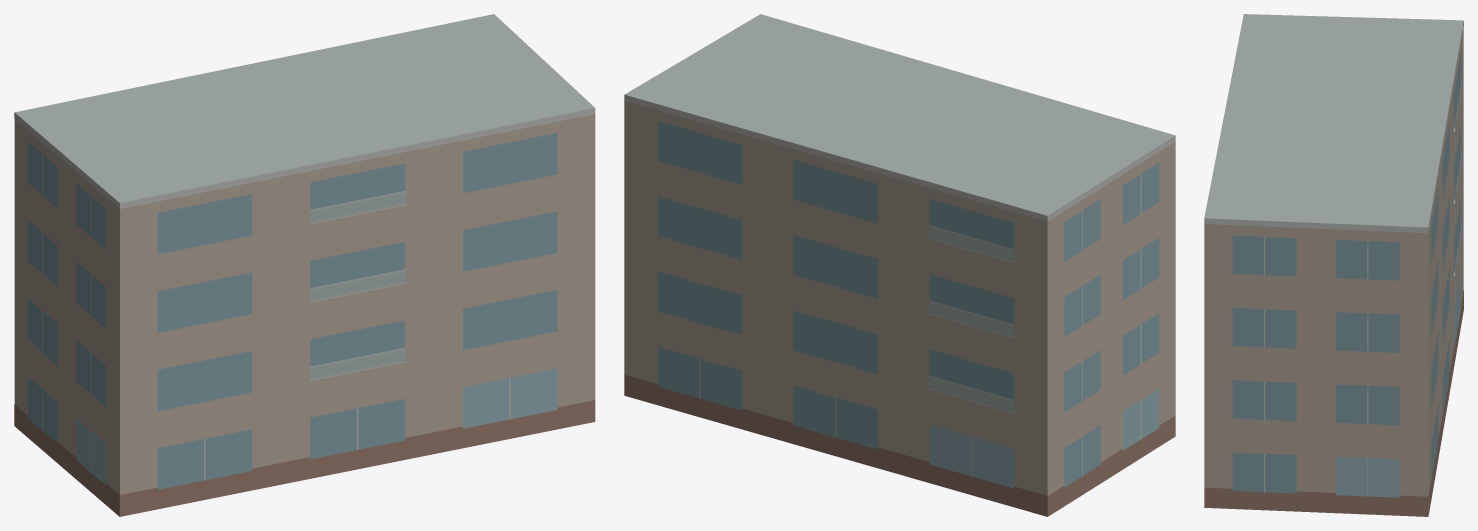
File: survey-upis-32669130.glb
The picture shows the model from 3 angles, left to right: view 1: azimuth 30°, elevation 25°; view 2: azimuth 150°, elevation 25°; view 3: azimuth 270°, elevation 25°; orthographic projection. The views are drawn at different scales.
Visible parts, largest first — view 1: survey-upis-32669130.tmp; view 2: survey-upis-32669130.tmp; view 3: survey-upis-32669130.tmp.
Boxes of the visible parts, x1,y1,x2,y2 form: survey-upis-32669130.tmp: (14, 14, 595, 516); survey-upis-32669130.tmp: (624, 14, 1175, 516); survey-upis-32669130.tmp: (1204, 14, 1463, 516).
Size of the model in its own units: 19.63 by 12.4 by 10.09.
